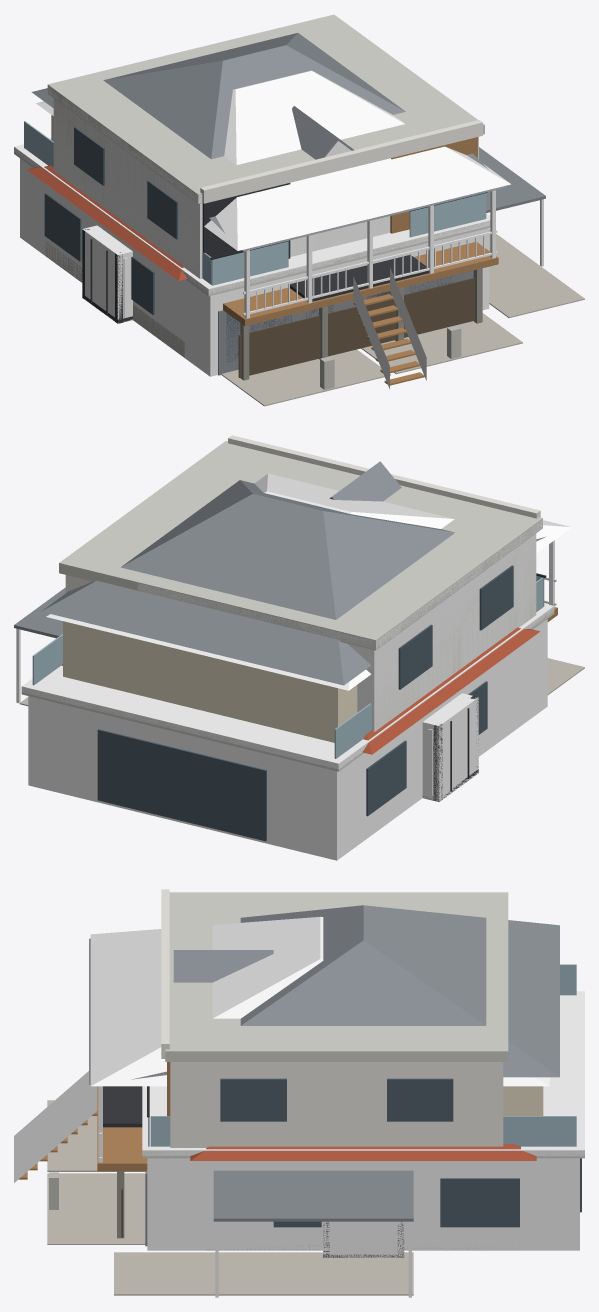
File: buildings.glb
The picture shows the model from 3 angles, top to bottom: view 1: azimuth 30°, elevation 25°; view 2: azimuth 150°, elevation 25°; view 3: azimuth 270°, elevation 25°; orthographic projection. The views are drawn at different scales.
Parts seen in each view (by area): view 1: ModernHouse, Queenslander, QueenslanderFarRoof, ModernHouseB, ModernFarBody, PostwarHouse, ModernFarRoof, Container40; view 2: Queenslander, ModernHouse, ModernFarBody, ModernHouseB, ModernFarRoof, QueenslanderFarRoof, Container40, PostwarHouse; view 3: ModernHouseB, Queenslander, PostwarHouse, ModernHouse, ModernFarBody, QueenslanderFarRoof, ModernFarRoof, Container40.
Part boxes in pixels (<box>): ModernHouse: <box>14,32,490,406</box>; Queenslander: <box>31,33,506,389</box>; QueenslanderFarRoof: <box>36,70,510,250</box>; ModernHouseB: <box>24,14,522,389</box>; ModernFarBody: <box>20,99,489,376</box>; PostwarHouse: <box>27,147,584,357</box>; ModernFarRoof: <box>14,85,490,294</box>; Container40: <box>82,225,132,323</box>; Queenslander: <box>41,461,557,742</box>; ModernHouse: <box>21,454,584,841</box>; ModernFarBody: <box>28,534,547,860</box>; ModernHouseB: <box>59,435,546,758</box>; ModernFarRoof: <box>21,519,554,769</box>; QueenslanderFarRoof: <box>46,473,571,690</box>; Container40: <box>422,693,478,801</box>; PostwarHouse: <box>14,587,540,754</box>; ModernHouseB: <box>47,929,576,1246</box>; Queenslander: <box>14,905,559,1238</box>; PostwarHouse: <box>114,1144,536,1297</box>; ModernHouse: <box>47,889,584,1227</box>; ModernFarBody: <box>147,1158,579,1250</box>; QueenslanderFarRoof: <box>90,916,549,1086</box>; ModernFarRoof: <box>142,991,584,1156</box>; Container40: <box>321,1221,405,1257</box>.
Size of the model in its own units: 15.04 by 8.3 by 17.15.
